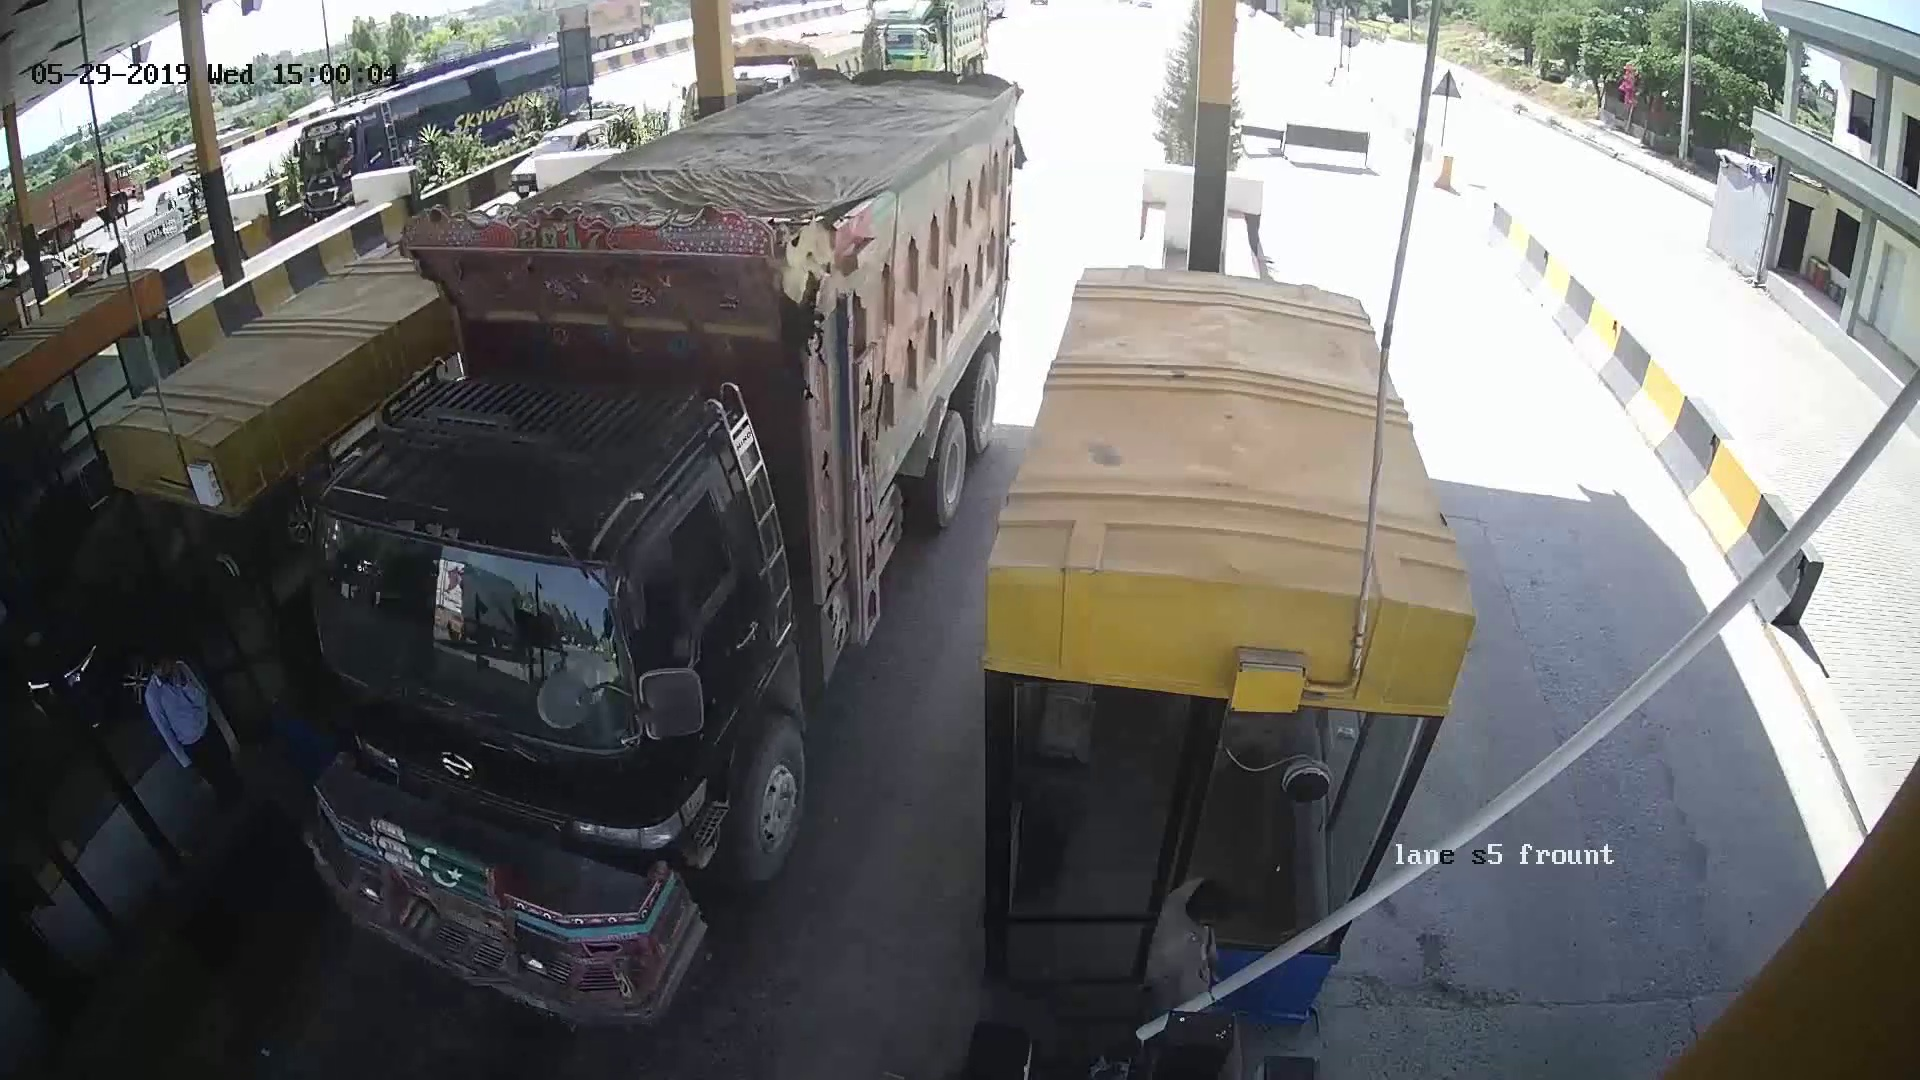truck: (313, 74, 1013, 1006)
